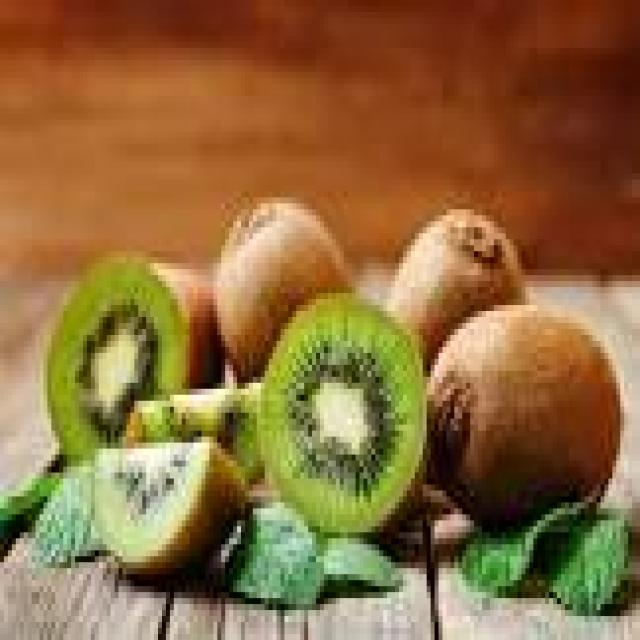kivi: (429, 305, 620, 526), (260, 291, 426, 534), (46, 255, 224, 462), (215, 199, 348, 380), (389, 208, 524, 367), (95, 437, 245, 575), (125, 382, 262, 481)
